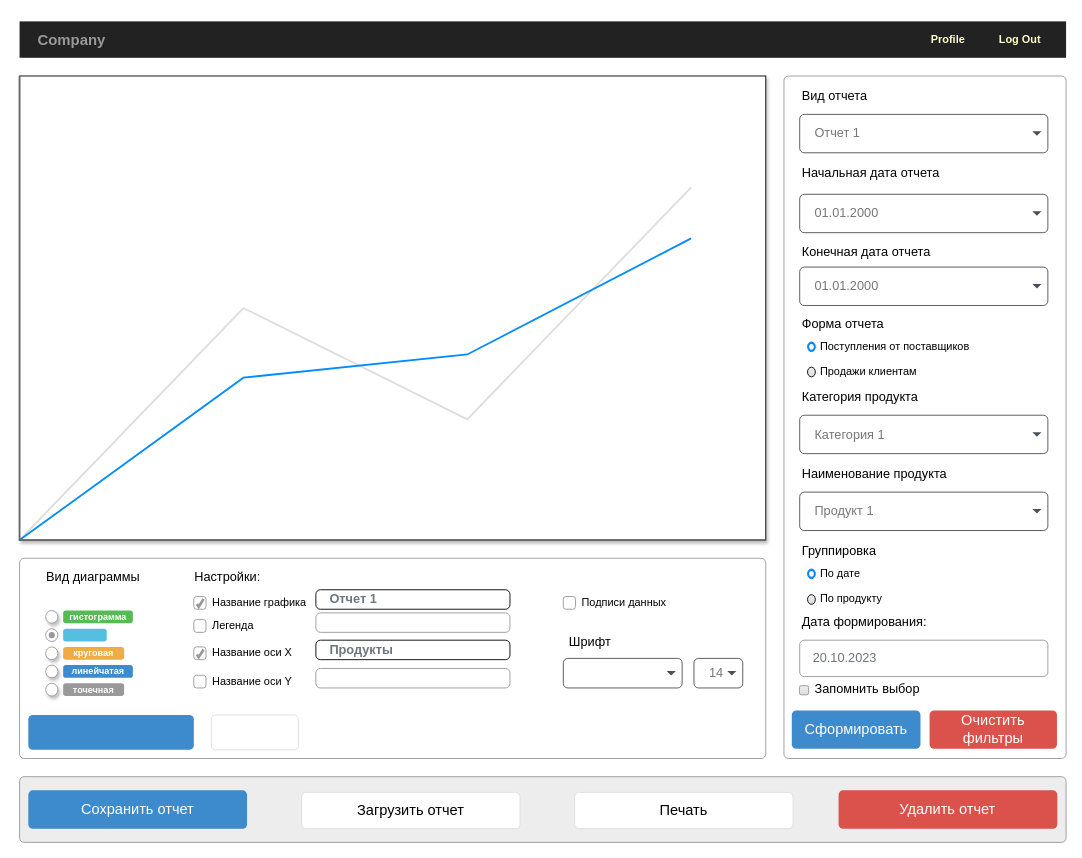
This 1082x858 diagram has some shape labels left out. The shapes that lost their labels are listed below. From the top down, each one's centre as x and y in pixels, then its label:
At [84,634]: "график".
At [622,672]: "Verdana".
At [110,732]: "Сохранить настройки".
At [254,732]: "Сбросить".
